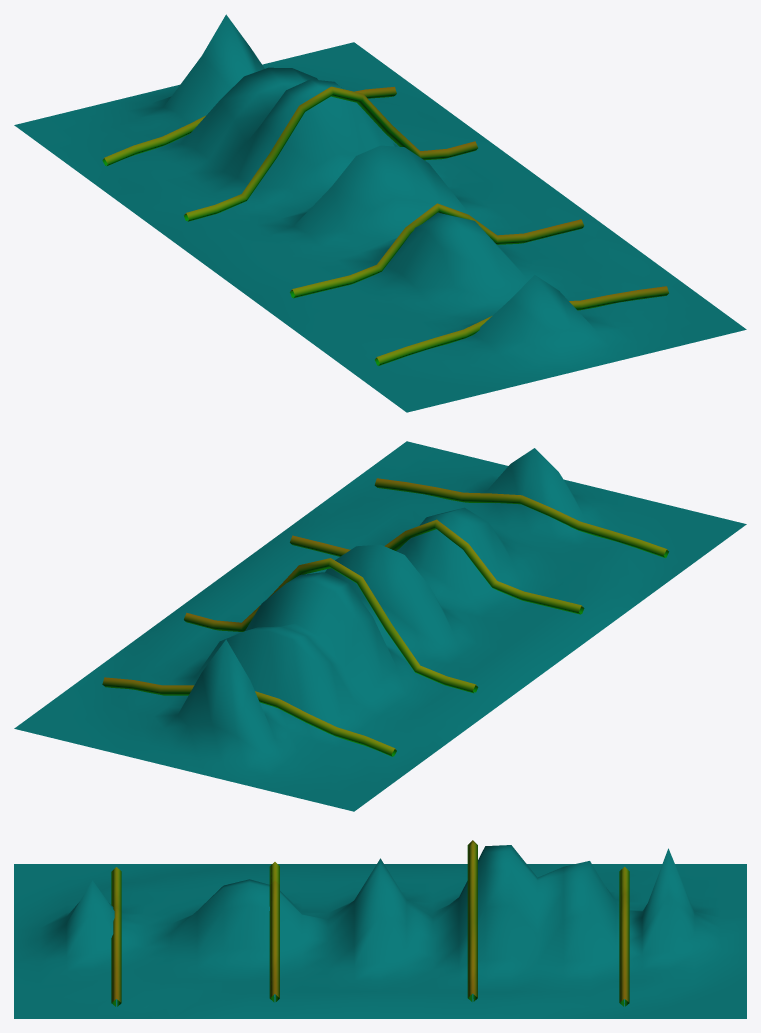
File: shroud_bound_a.glb
The picture shows the model from 3 angles, top to bottom: view 1: azimuth 30°, elevation 25°; view 2: azimuth 150°, elevation 25°; view 3: azimuth 270°, elevation 25°; orthographic projection. The views are drawn at different scales.
Parts seen in each view (by area): view 1: shroud_bound_a; view 2: shroud_bound_a; view 3: shroud_bound_a.
Boxes of the visible parts, x1=… form: shroud_bound_a: x1=14, y1=14, x2=746, y2=412; shroud_bound_a: x1=14, y1=441, x2=746, y2=811; shroud_bound_a: x1=14, y1=840, x2=746, y2=1018.
Size of what is drawn, in the model's own units: 1 by 0.2956 by 2.
